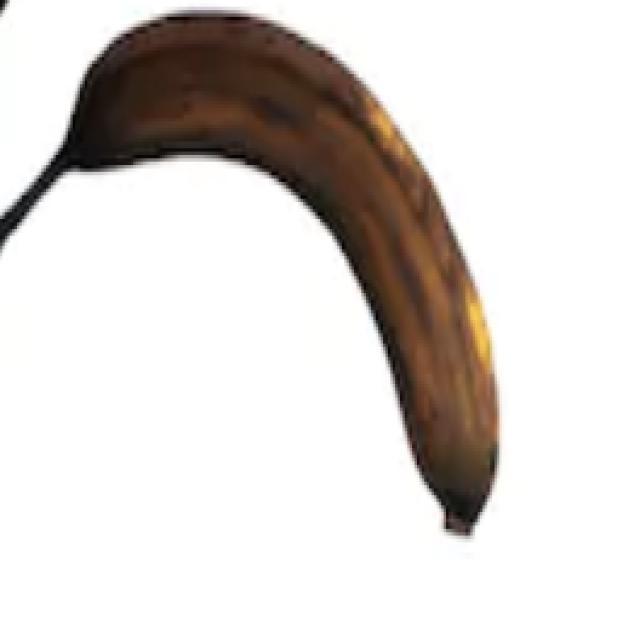rotten-banana: (0, 0, 502, 539)
